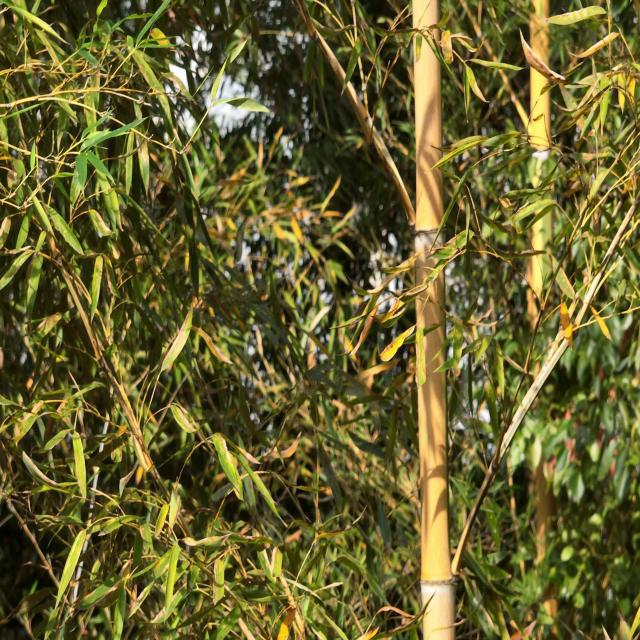Bamboo-shoots: (412, 0, 456, 640)
